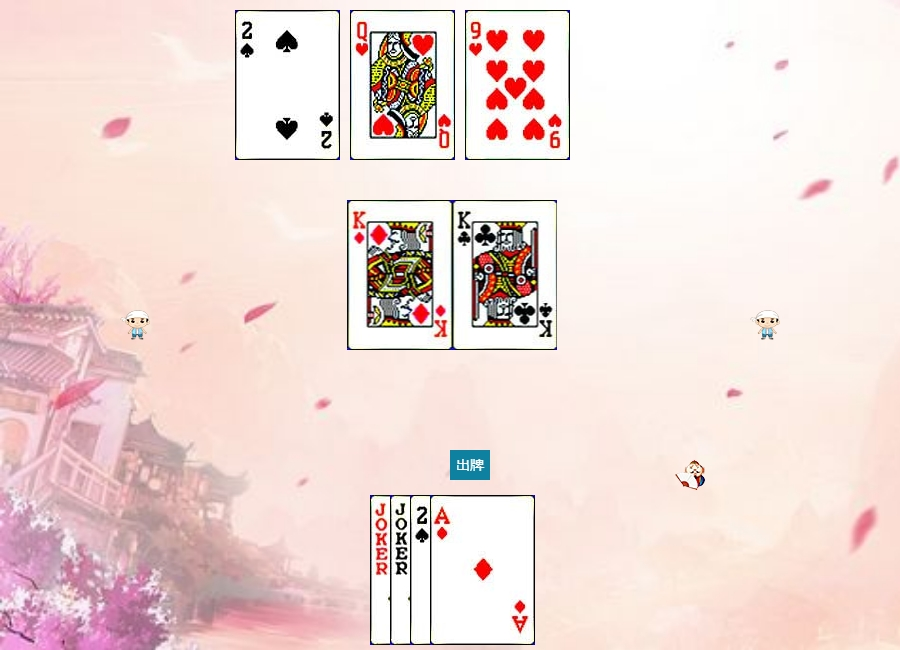12~3: (350, 10, 455, 160)
13~1: (348, 200, 453, 350)
13~2: (453, 200, 558, 350)
14~1: (430, 495, 535, 645)
15~4: (235, 10, 340, 160), (410, 495, 515, 645)
17~3: (390, 495, 495, 645)
18~4: (370, 495, 475, 645)
9~3: (465, 10, 570, 160)
